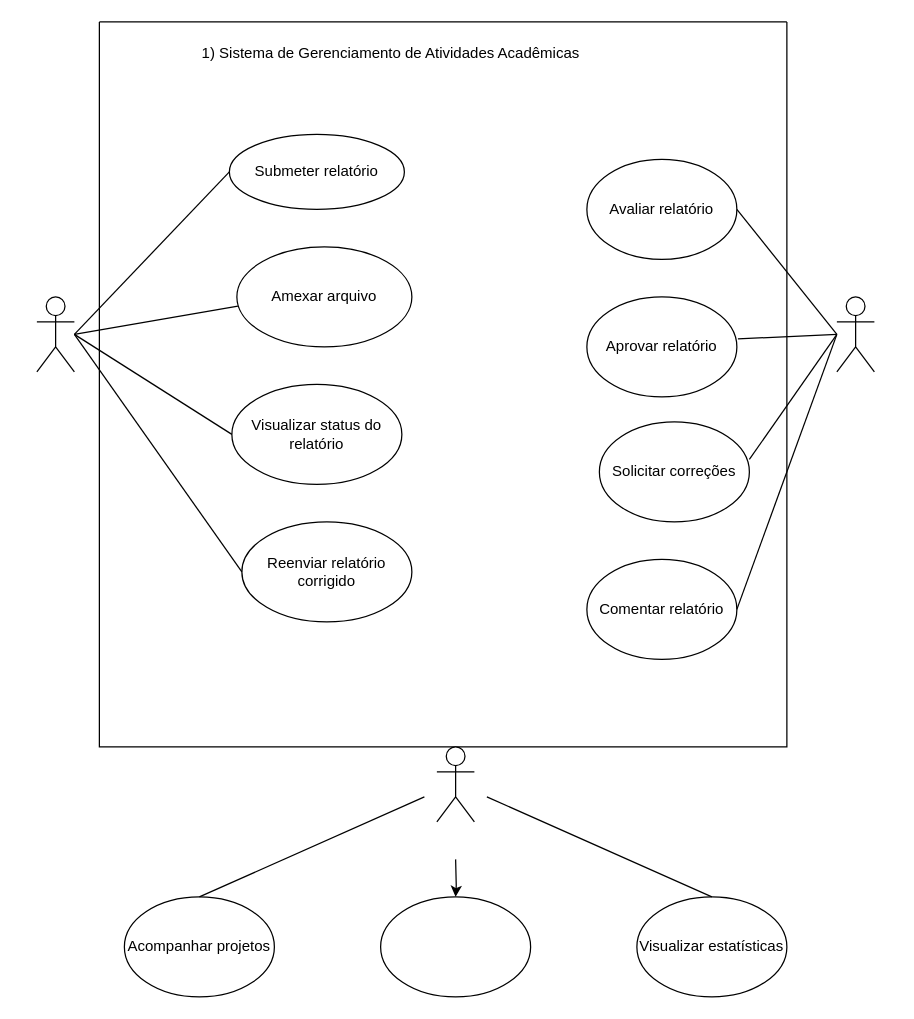
Some shapes in this 914 by 1019 pixel diagram are drawn without their labels. The centre of each missing label's shape, as x and y in pixels:
"Administrador" belongs at (x=455, y=784).
"Consultar relatórios" belongs at (x=455, y=946).
"Estudante" belongs at (x=55, y=334).
"Professor Orientador" belongs at (x=855, y=334).
